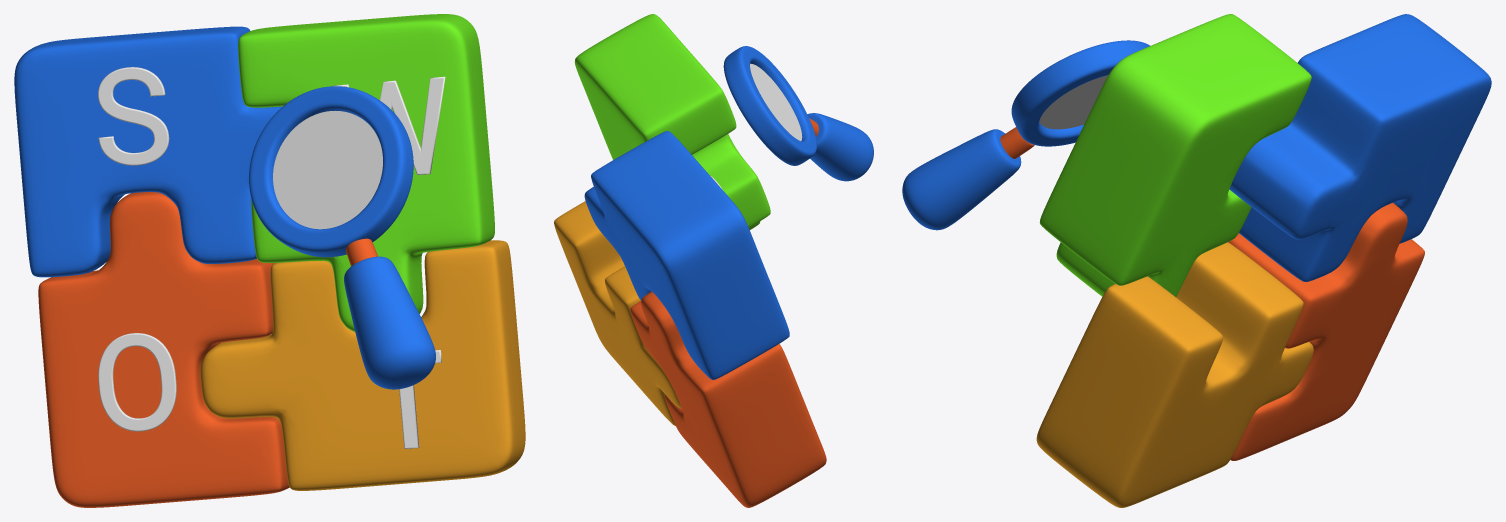
File: swot-analysis-3d-animated-icon-267613039922.glb
3 renders of one model, left to right at view 1: azimuth 30°, elevation 25°; view 2: azimuth 150°, elevation 25°; view 3: azimuth 270°, elevation 25°, orthographic. The views are drawn at different scales.
Visible parts, largest first — view 1: puzzle 3, puzzle 4, puzzle 1, puzzle 2, magnifying glass, o, s, w, t; view 2: puzzle 1, puzzle 3, puzzle 2, magnifying glass, puzzle 4; view 3: puzzle 2, puzzle 4, puzzle 1, puzzle 3, magnifying glass.
Part boxes in pixels (x1,y1,x2,y2): puzzle 3: (38,192,289,507); puzzle 4: (200,240,525,490); puzzle 1: (14,26,282,277); puzzle 2: (238,14,494,331); magnifying glass: (249,86,435,389); o: (98,333,176,431); s: (98,67,169,165); w: (333,76,445,174); t: (399,350,441,448); puzzle 1: (584,131,789,379); puzzle 3: (630,291,826,507); puzzle 2: (574,14,770,229); magnifying glass: (723,46,873,181); puzzle 4: (554,201,681,425); puzzle 2: (1039,14,1311,296); puzzle 4: (1036,242,1313,507); puzzle 1: (1229,14,1491,281); puzzle 3: (1228,203,1424,460); magnifying glass: (902,40,1149,230).
Bounding box in the file's own units: 2.29 × 2.73 × 3.14.
